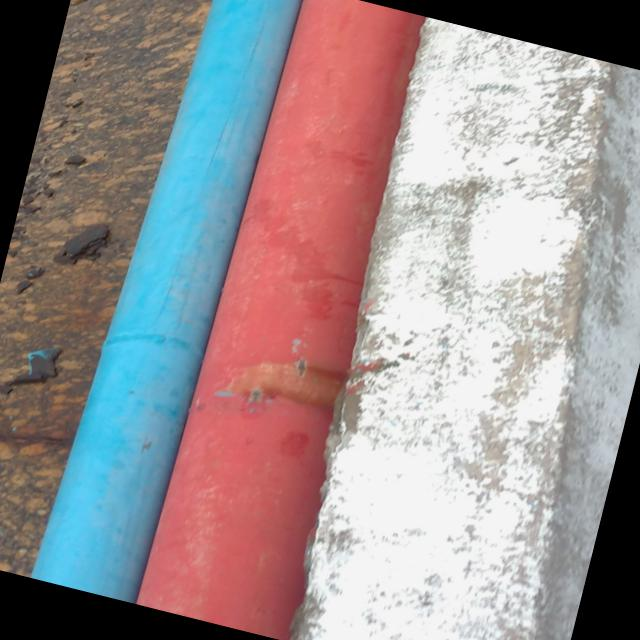gas: (134, 0, 424, 637), (29, 0, 304, 607)
